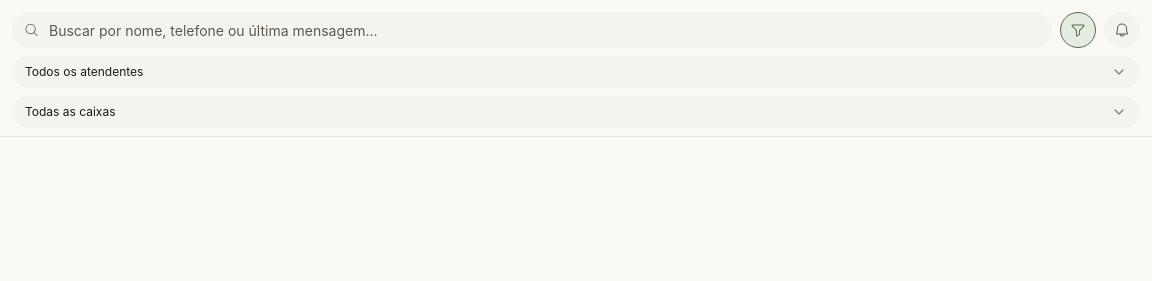
o seletor de ATENDENTE › o observador não atende: para ele não existe "Eu", e ele se vê pelo nome
Click the dropdown named "Filtrar por atendente" at point(84, 72), box x1=12 y1=56 x2=1140 y2=88
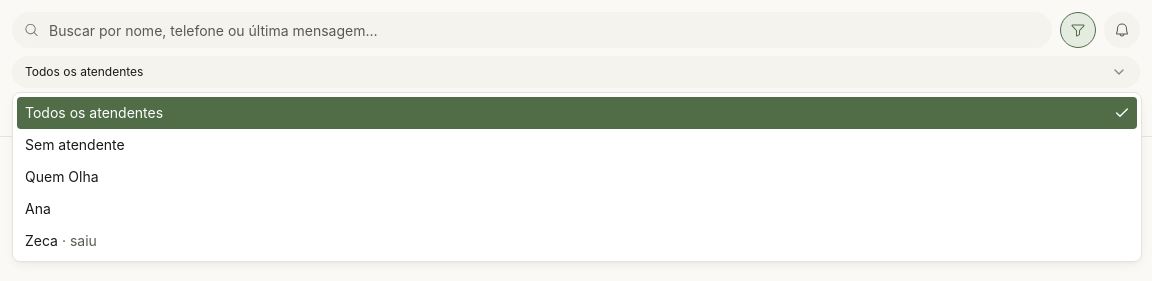
Now the text "Sem atendente" is shown, box x1=25 y1=135 x2=125 y2=155
